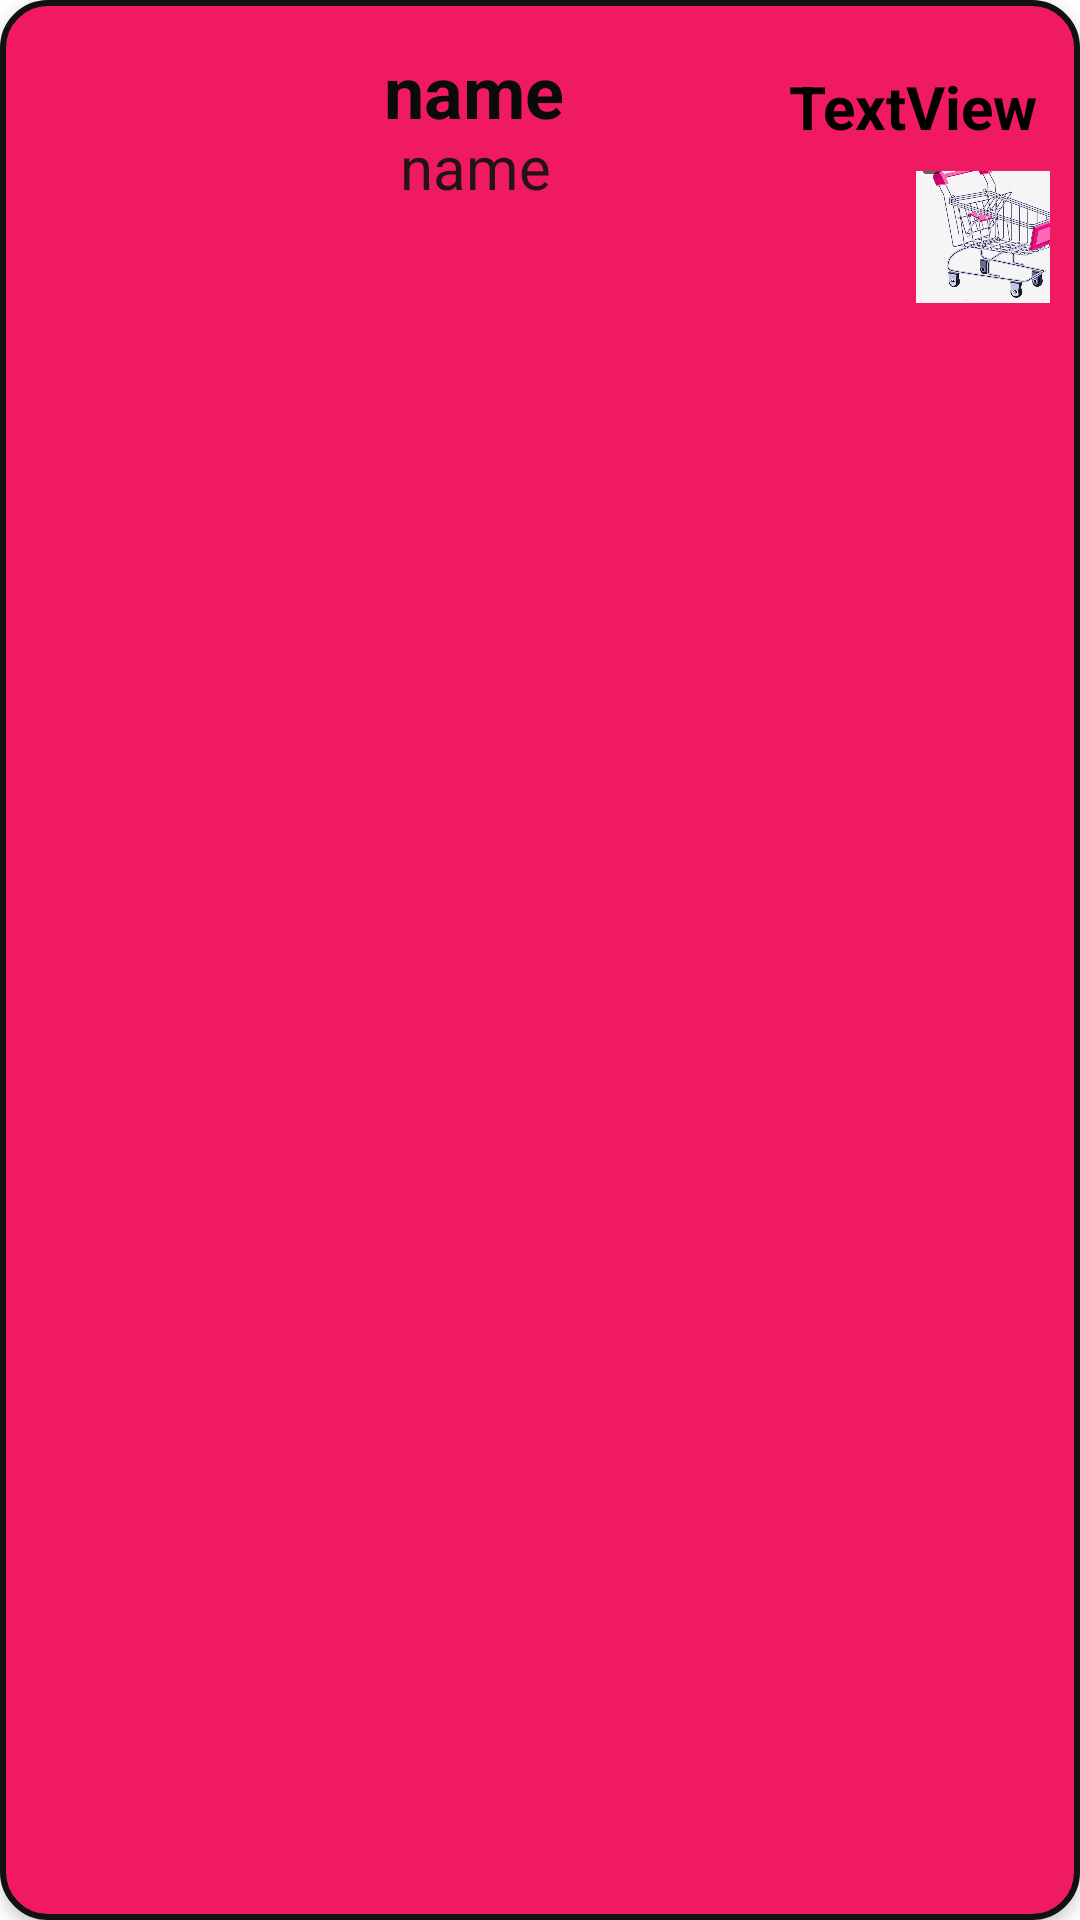

Named icons in this screenshot (1080x1920) and their centers, (x,y):
shoppingwheele: (983,237)
